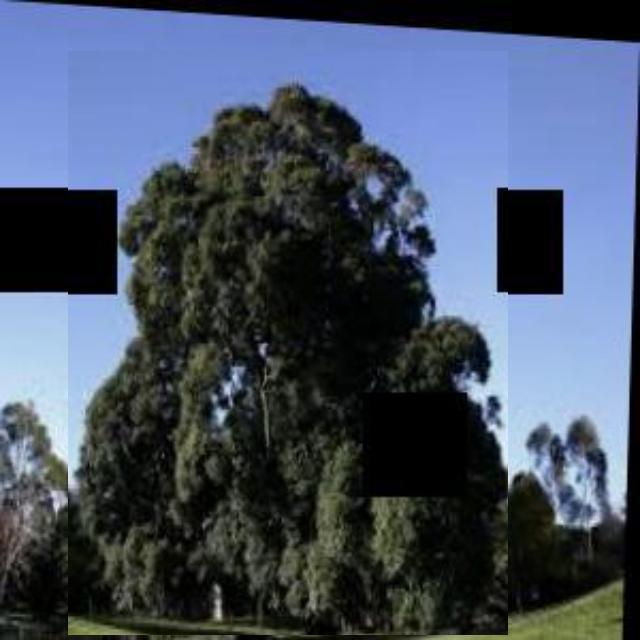tree: (68, 51, 508, 635)
